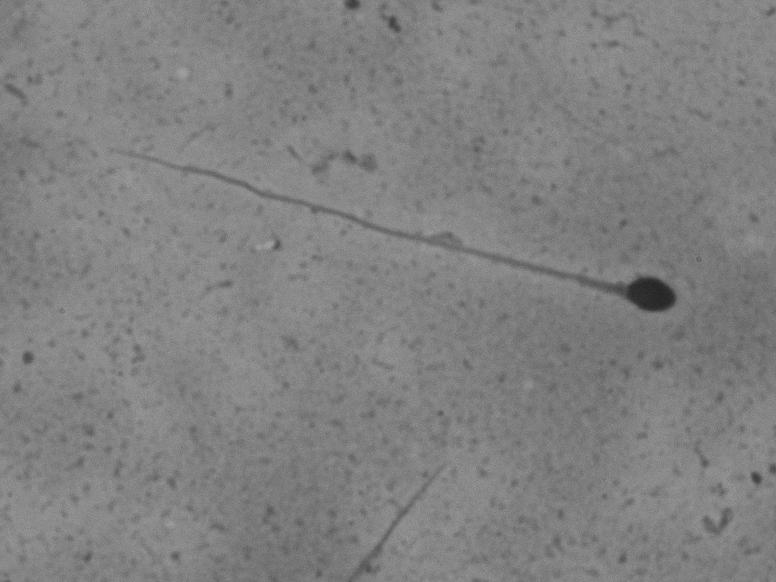Abnormal: (99, 118, 694, 356)
